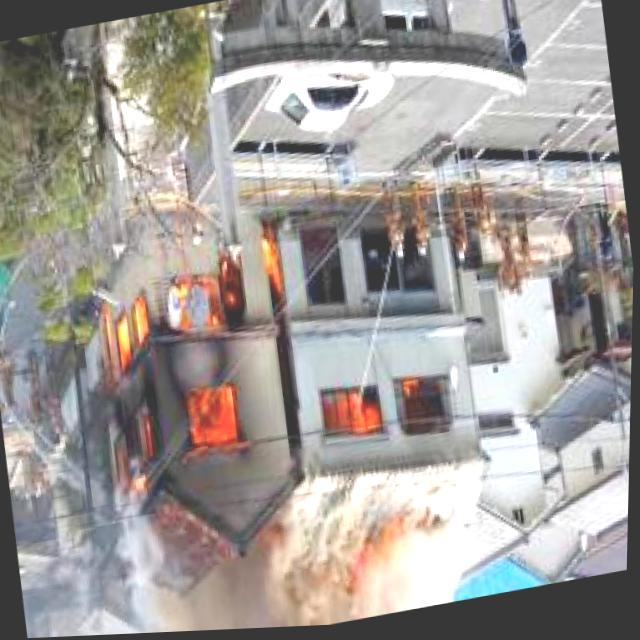helmet: (71, 208, 324, 518), (322, 367, 463, 442)
no_helmet: (134, 454, 508, 635)
